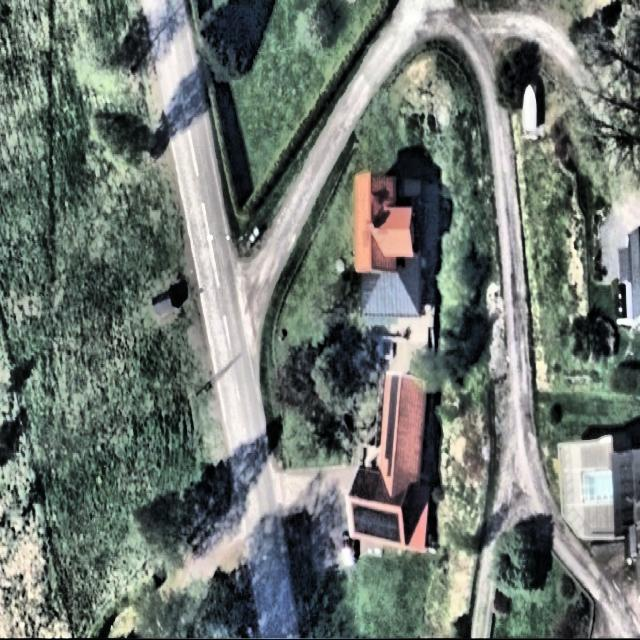roof_pv: (349, 500, 405, 549), (384, 374, 399, 478)
